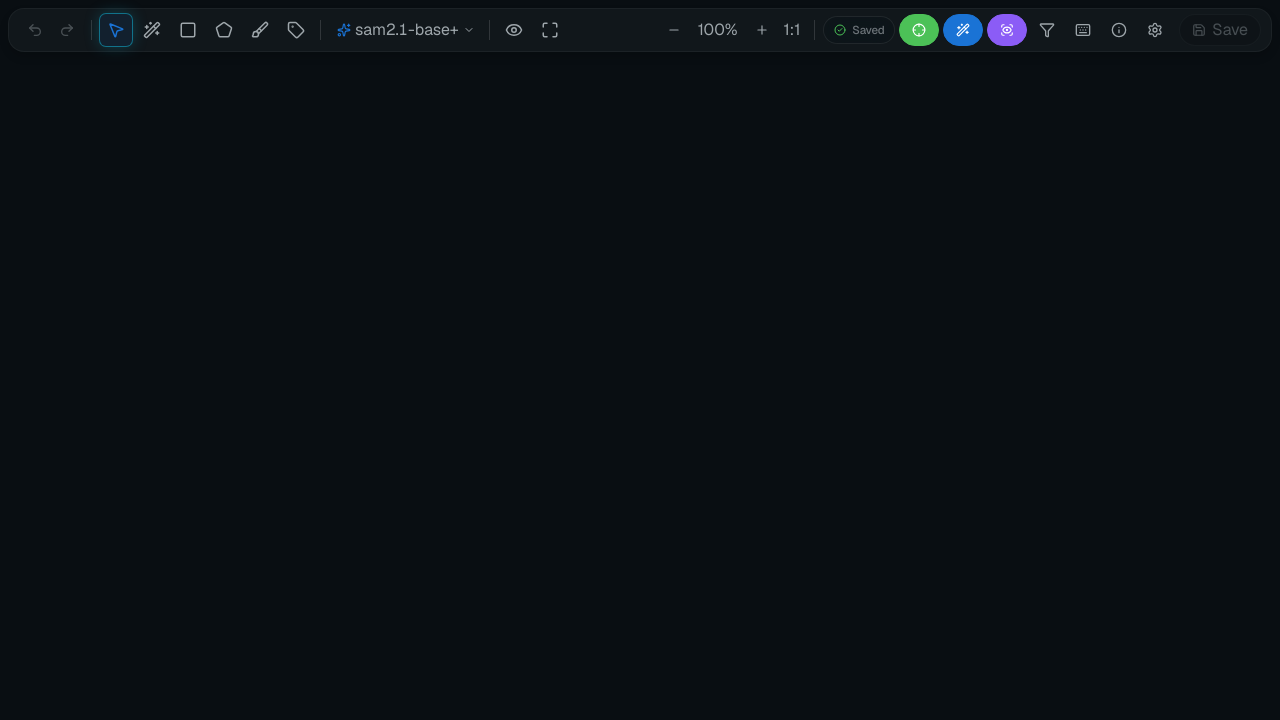
v3.7.2 — pre-flight: no-class-mapping warning + disabled Predict › Predict button is enabled when at least one class is mapped
The image size is (1280, 720).
Click the button with test id "yolo-predict-trigger" at coordinates (919, 30), box 899,14 -> 939,46
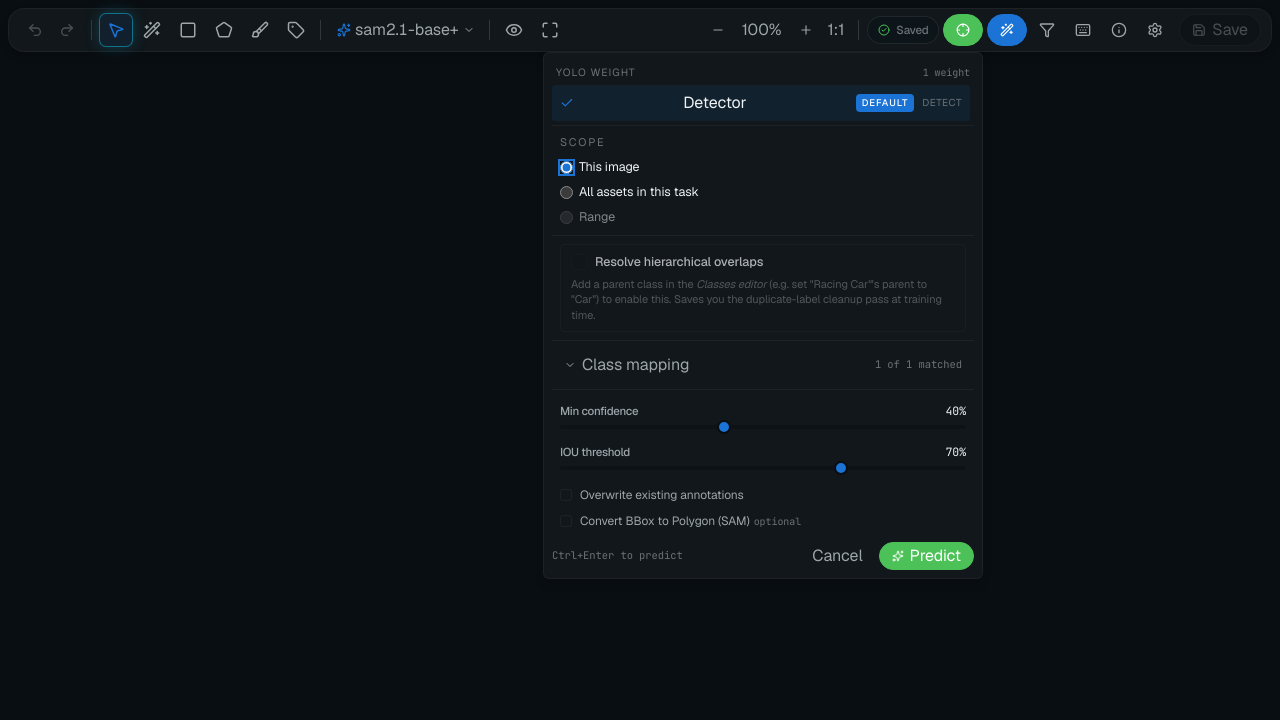
Expected: the button with test id "yolo-predict-go" is enabled, 879,542 -> 974,570
